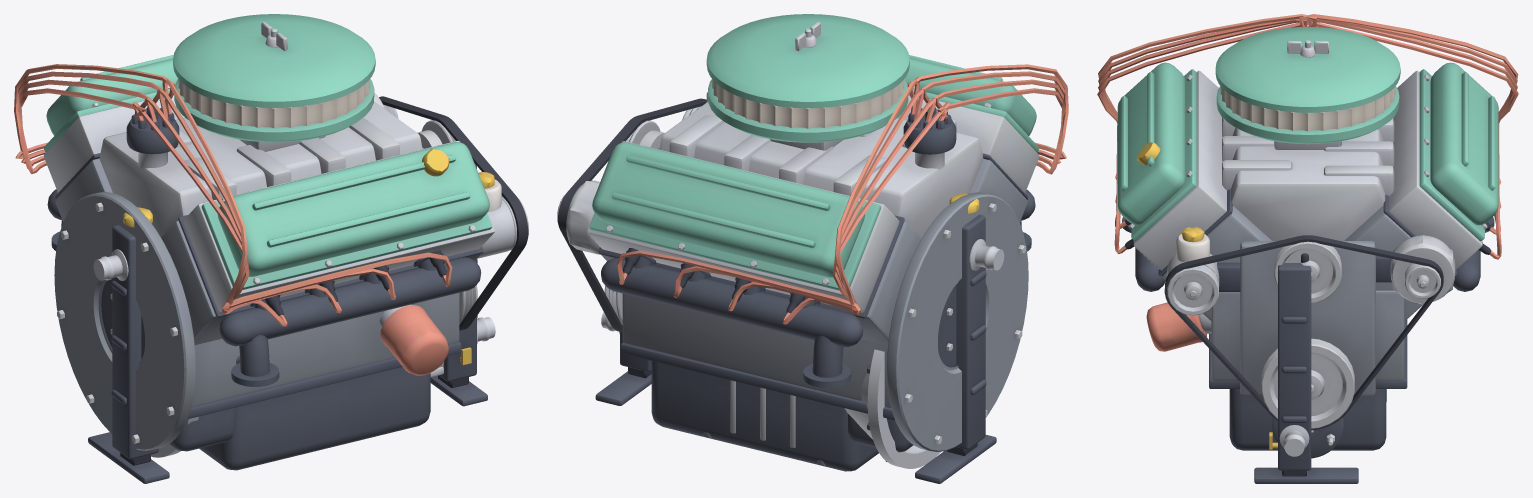
Rendered from mechanical.glb.
The picture shows the model from 3 angles, left to right: view 1: azimuth 30°, elevation 25°; view 2: azimuth 150°, elevation 25°; view 3: azimuth 270°, elevation 25°; orthographic projection. The views are drawn at different scales.
Visible parts, largest first — view 1: v8-engine_body, car-radiator_body; view 2: v8-engine_body, car-radiator_body, gearbox_body; view 3: v8-engine_body, car-radiator_body, shock-absorber_body.
Part boxes in pixels (x1,y1,x2,y2): v8-engine_body: [14, 14, 528, 470]; car-radiator_body: [88, 163, 495, 483]; v8-engine_body: [557, 14, 1068, 471]; car-radiator_body: [595, 193, 1004, 483]; gearbox_body: [703, 349, 940, 468]; v8-engine_body: [1097, 14, 1518, 450]; car-radiator_body: [1254, 253, 1358, 483]; shock-absorber_body: [1272, 417, 1343, 458].
Bounding box in the file's own units: 0.79 × 0.763 × 0.807.
Materials: 5 (5 with a texture image).
